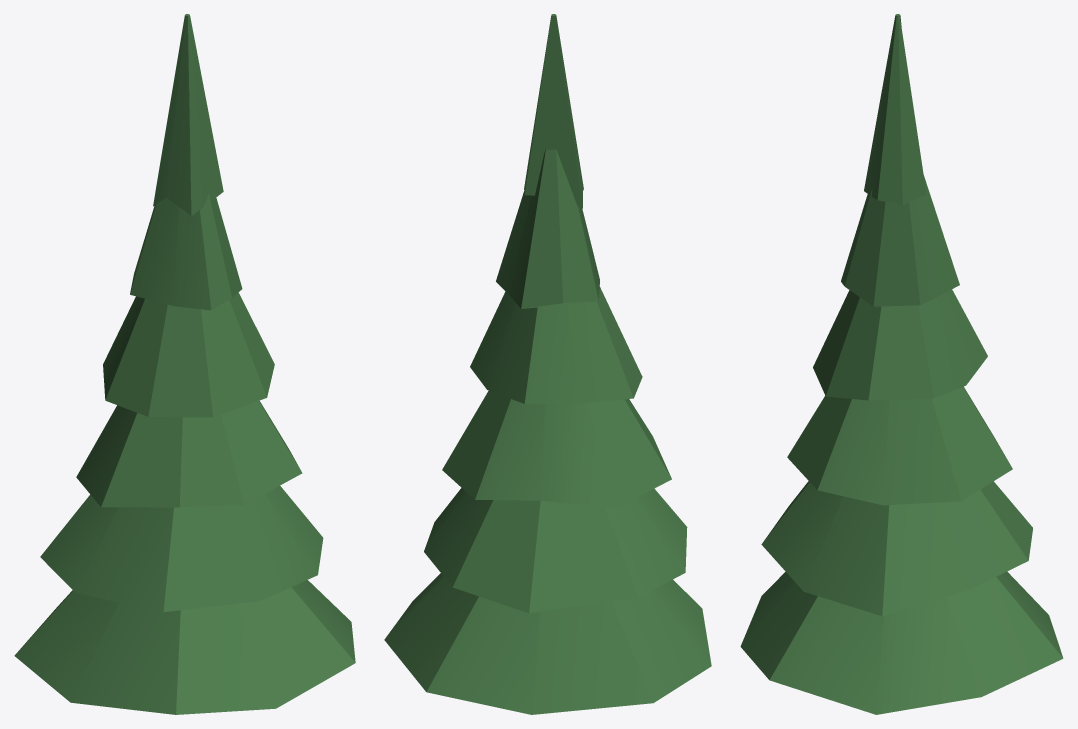
File: tree_conifer_b.glb
The picture shows the model from 3 angles, left to right: view 1: azimuth 30°, elevation 25°; view 2: azimuth 150°, elevation 25°; view 3: azimuth 270°, elevation 25°; orthographic projection.
Parts seen in each view (by area): view 1: tree_conifer_b; view 2: tree_conifer_b; view 3: tree_conifer_b.
Part boxes in pixels (x1,y1,x2,y2): tree_conifer_b: [14, 14, 355, 714]; tree_conifer_b: [384, 14, 711, 714]; tree_conifer_b: [740, 14, 1063, 714].
Size of the model in its own units: 6.42 by 13.93 by 6.26.
